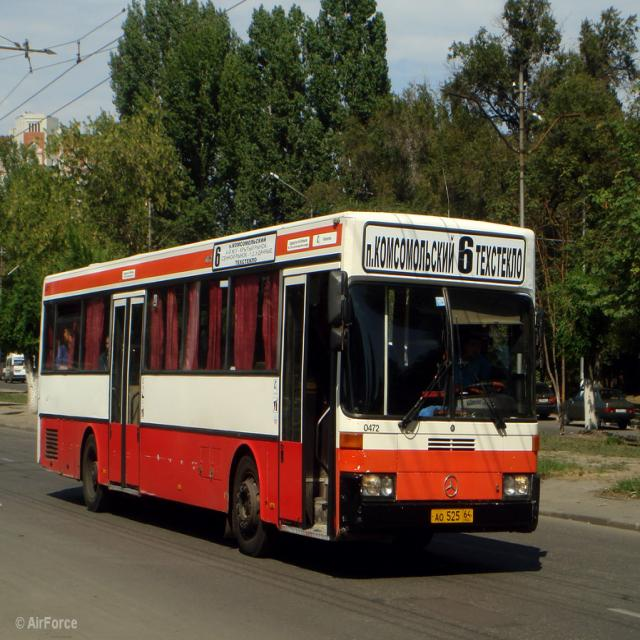number-of-bus: (460, 230, 478, 283)
